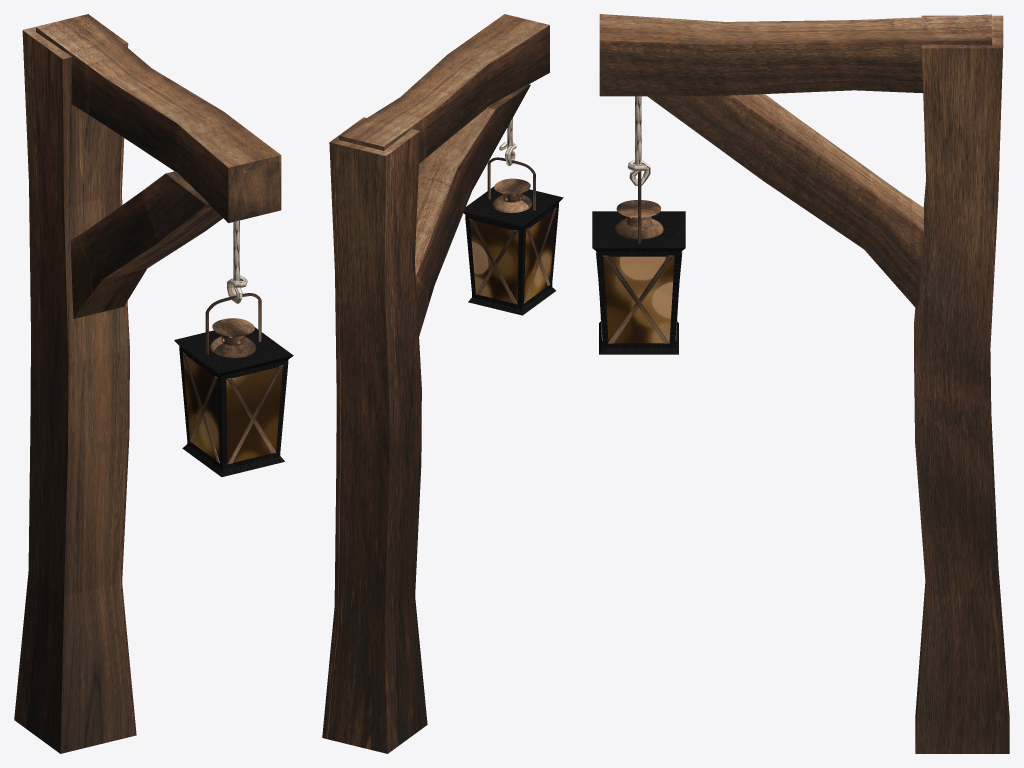
File: Lamp Old Street.obj
3 views of the same model, side by side, from view 1: azimuth 30°, elevation 25°; view 2: azimuth 150°, elevation 25°; view 3: azimuth 270°, elevation 25° (orthographic). The views are drawn at different scales.
Visible parts, largest first — view 1: Cube.001_Cube.002, Cube.002_Cube.003, Cube_Cube.001, Cube.003_Cube.004, Plane.008, Cylinder.003_Cylinder.011, Sphere, Plane; view 2: Cube.001_Cube.002, Cube.002_Cube.003, Cube.003_Cube.004, Cube_Cube.001, Plane.008, Sphere, Plane; view 3: Cube.001_Cube.002, Cube.002_Cube.003, Cube.003_Cube.004, Cube_Cube.001, Plane.008, Cylinder.003_Cylinder.011.
Part boxes in pixels (box(x1,y1,x2,y2)): Cube.001_Cube.002: box(14, 14, 136, 753); Cube.002_Cube.003: box(36, 14, 281, 223); Cube_Cube.001: box(174, 327, 293, 476); Cube.003_Cube.004: box(71, 171, 222, 318); Plane.008: box(182, 352, 283, 464); Cylinder.003_Cylinder.011: box(227, 220, 247, 303); Sphere: box(210, 336, 256, 357); Plane: box(212, 318, 254, 336); Cube.001_Cube.002: box(322, 117, 427, 753); Cube.002_Cube.003: box(339, 14, 549, 163); Cube.003_Cube.004: box(415, 84, 530, 336); Cube_Cube.001: box(463, 186, 563, 315); Plane.008: box(469, 208, 556, 304); Sphere: box(492, 195, 531, 212); Plane: box(494, 178, 530, 194); Cube.001_Cube.002: box(914, 15, 1009, 753); Cube.002_Cube.003: box(599, 14, 991, 96); Cube.003_Cube.004: box(647, 94, 923, 309); Cube_Cube.001: box(592, 211, 685, 354); Plane.008: box(596, 251, 682, 343); Cylinder.003_Cylinder.011: box(627, 96, 650, 185).
Bounding box in the file's own units: 2.91 × 25.47 × 13.59.
Materials: 14 (14 with a texture image).
